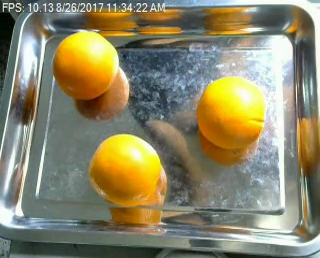Orange: (89, 133, 162, 207), (197, 76, 267, 149), (52, 30, 119, 100)
